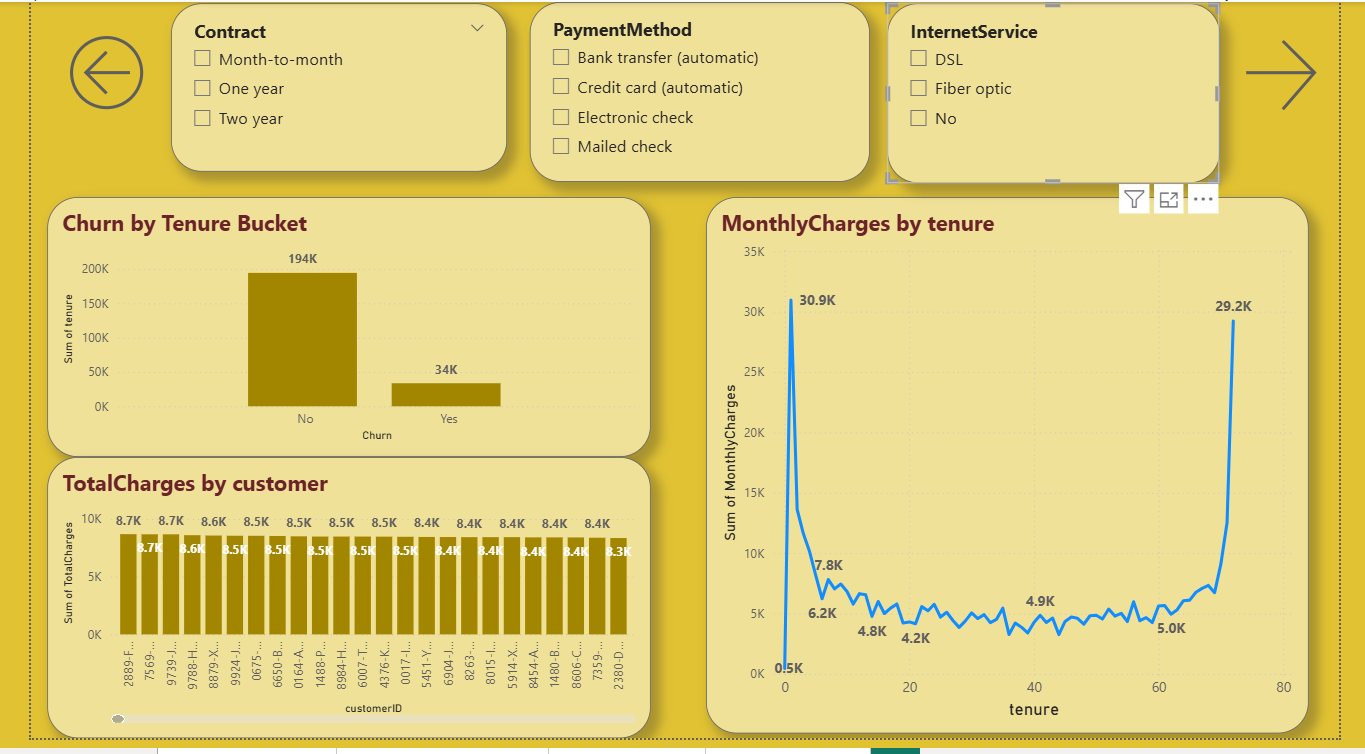

The dashboard page shown, as its layout file describes it:
{"tool":"powerbi","page":{"name":"Cohort Analysis","canvas":[1280,720],"ordinal":2},"visuals":[{"type":"slicer","fields":{"Values":["telco customer churn dataset (2).Contract"]},"box":[137,1.2,328.9,165.1],"z":0},{"type":"slicer","fields":{"Values":["telco customer churn dataset (2).PaymentMethod"]},"box":[487.9,0,332.6,176.1],"z":1},{"type":"slicer","fields":{"Values":["telco customer churn dataset (2).InternetService"]},"box":[837.6,1.2,325.3,176.1],"z":2},{"type":"clusteredColumnChart","title":"Churn by Tenure Bucket","fields":{"Y":["Sum(telco customer churn dataset (2).tenure)"],"Category":["telco customer churn dataset (2).Churn"]},"box":[15.9,190.8,590.6,254.3],"z":3},{"type":"columnChart","title":" TotalCharges by customer","fields":{"Category":["telco customer churn dataset (2).customerID"],"Y":["Sum(telco customer churn dataset (2).TotalCharges)"]},"box":[15.9,445.1,590.6,275.1],"z":4},{"type":"lineChart","title":"MonthlyCharges by tenure","fields":{"Category":["telco customer churn dataset (2).tenure"],"Y":["Sum(telco customer churn dataset (2).MonthlyCharges)"]},"box":[660.3,190.8,589.4,524.6],"z":5},{"type":"actionButton","box":[29.3,24.5,128.4,89.3],"z":6},{"type":"actionButton","box":[1180,29.3,100.3,84.4],"z":7}]}

Visuals, with their boxes in screenshot pixels (x1, y1, x2, y2), scaled from the page's 1280x720 canvas onto the 1365x754 screenshot:
slicer - telco customer churn dataset (2).Contract: region(146, 1, 497, 174)
slicer - telco customer churn dataset (2).PaymentMethod: region(520, 0, 875, 184)
slicer - telco customer churn dataset (2).InternetService: region(893, 1, 1240, 186)
"Churn by Tenure Bucket" clusteredColumnChart: region(17, 200, 647, 466)
" TotalCharges by customer" columnChart: region(17, 466, 647, 753)
"MonthlyCharges by tenure" lineChart: region(704, 200, 1333, 749)
actionButton: region(31, 26, 168, 119)
actionButton: region(1258, 31, 1364, 119)
